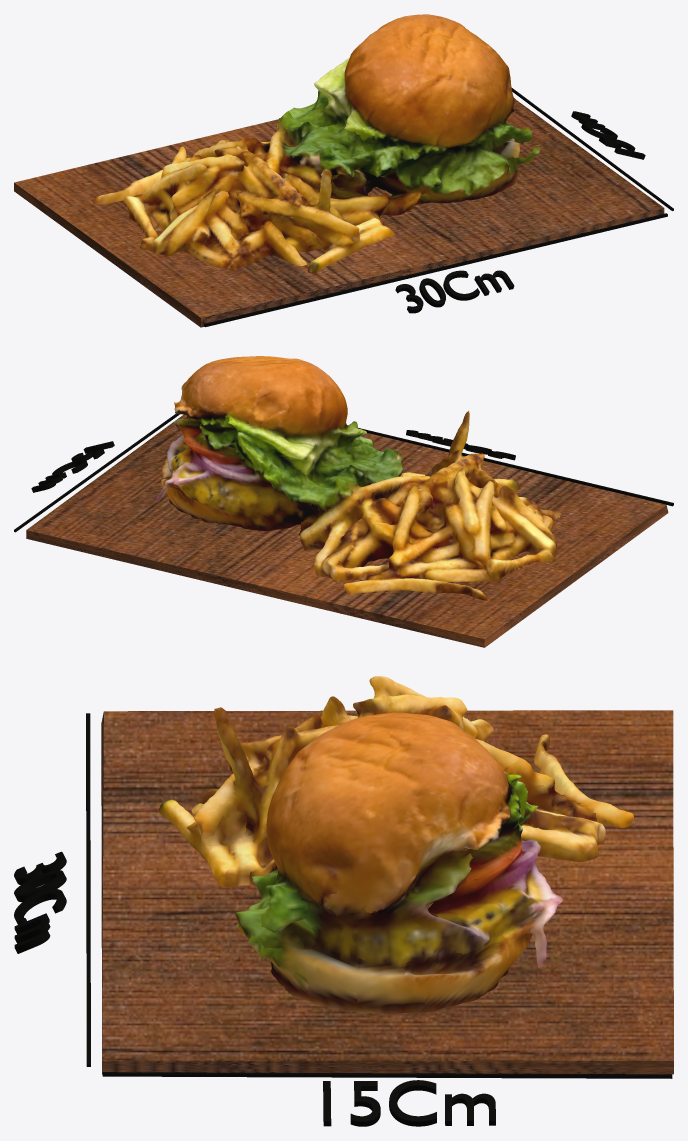
File: burger.glb
3 renders of one model, top to bottom at view 1: azimuth 30°, elevation 25°; view 2: azimuth 150°, elevation 25°; view 3: azimuth 270°, elevation 25°, orthographic. The views are drawn at different scales.
Visible parts, largest first — view 1: Object_2, Cube, Object_3, Cube.001, Text, Text.001, Cube.002; view 2: Cube, Object_2, Object_3, Cube.001, Text.001, Cube.002, Text; view 3: Cube, Object_2, Object_3, Text.001, Text, Cube.002, Cube.001.
Boxes of the visible parts, x1,y1,x2,y2 form: Object_2: (93, 16, 539, 273); Cube: (14, 100, 664, 327); Object_3: (95, 14, 520, 252); Cube.001: (204, 213, 667, 327); Text: (395, 270, 514, 313); Text.001: (571, 111, 645, 159); Cube.002: (511, 88, 673, 210); Cube: (26, 414, 668, 647); Object_2: (156, 356, 561, 600); Object_3: (166, 364, 554, 600); Cube.001: (358, 428, 673, 506); Text.001: (31, 441, 114, 492); Cube.002: (14, 413, 179, 532); Text: (406, 430, 515, 460); Cube: (101, 710, 673, 1074); Object_2: (158, 677, 633, 1013); Object_3: (186, 676, 630, 1014); Text.001: (323, 1080, 495, 1126); Text: (14, 851, 66, 953); Cube.002: (102, 1072, 672, 1078); Cube.001: (86, 713, 90, 1066).
Size of the model in its own units: 0.365 by 0.1086 by 0.2627.
6 materials, 6 textured.
